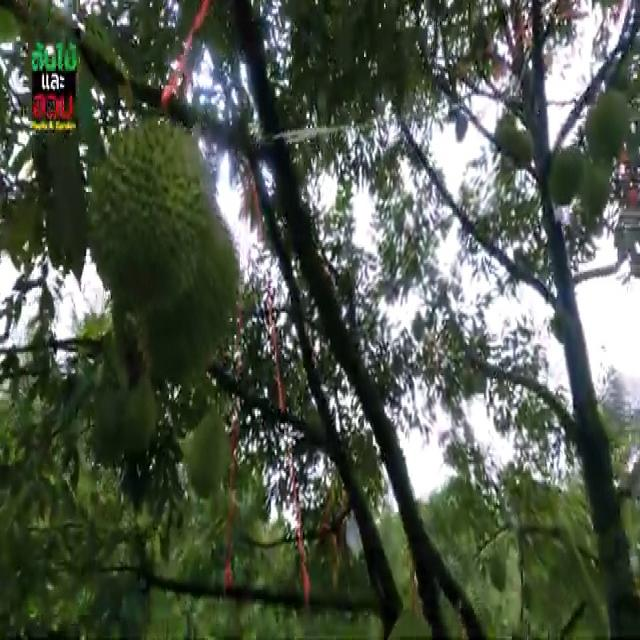durian: (84, 110, 218, 320), (114, 192, 242, 383), (180, 410, 232, 500), (119, 376, 158, 464)
